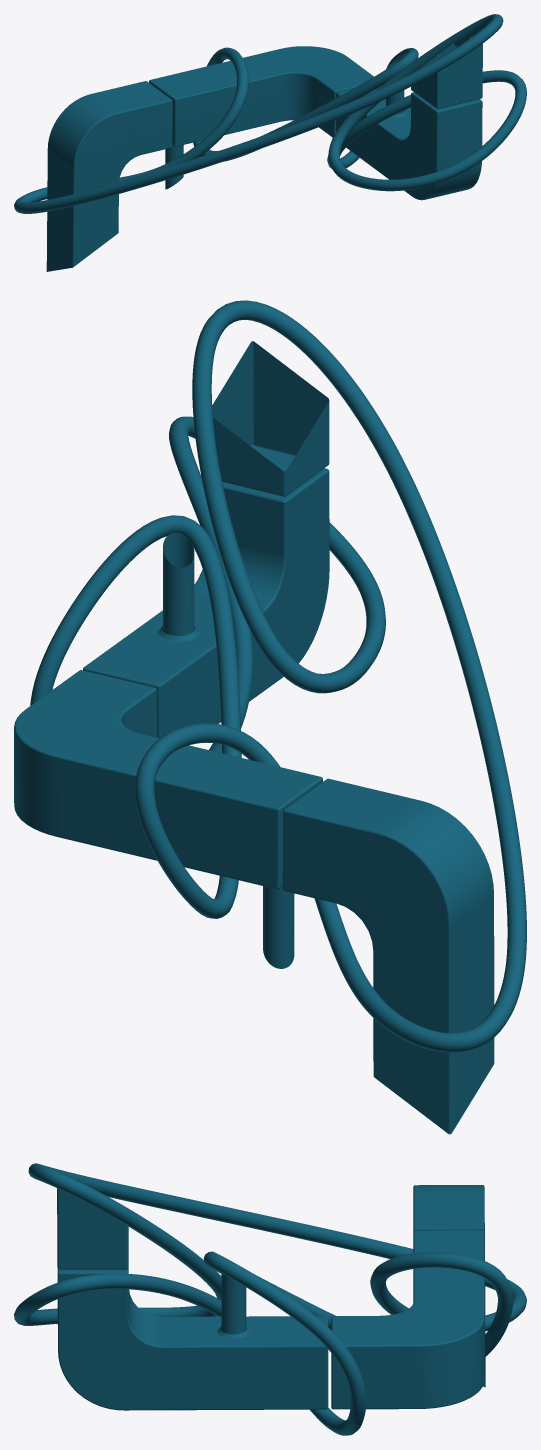
3 views of the same model, one above another, from view 1: azimuth 30°, elevation 25°; view 2: azimuth 150°, elevation 25°; view 3: azimuth 270°, elevation 25° (orthographic). The views are drawn at different scales.
Parts seen in each view (by area): view 1: group1_1_0, wire_11_0, group3_5_0, group2_3_0, strebe_7_0; view 2: group1_1_0, wire_11_0, group3_5_0, group2_3_0, strebe_7_0; view 3: group2_3_0, wire_11_0, group3_5_0, group1_1_0, strebe_7_0.
Boxes of the visible parts, x1=… form: group1_1_0: x1=46, y1=38, x2=482, y2=271; wire_11_0: x1=14, y1=14, x2=526, y2=213; group3_5_0: x1=149, y1=46, x2=373, y2=146; group2_3_0: x1=336, y1=86, x2=482, y2=200; strebe_7_0: x1=165, y1=57, x2=404, y2=189; group1_1_0: x1=212, y1=341, x2=494, y2=1134; wire_11_0: x1=30, y1=300, x2=526, y2=1052; group3_5_0: x1=14, y1=670, x2=322, y2=889; group2_3_0: x1=83, y1=468, x2=329, y2=738; strebe_7_0: x1=163, y1=532, x2=294, y2=968; group2_3_0: x1=57, y1=1268, x2=328, y2=1410; wire_11_0: x1=14, y1=1163, x2=526, y2=1435; group3_5_0: x1=331, y1=1230, x2=484, y2=1409; group1_1_0: x1=57, y1=1185, x2=485, y2=1387; strebe_7_0: x1=221, y1=1273, x2=246, y2=1333.
Size of the model in its own units: 0.6921 by 0.5745 by 0.6581.
